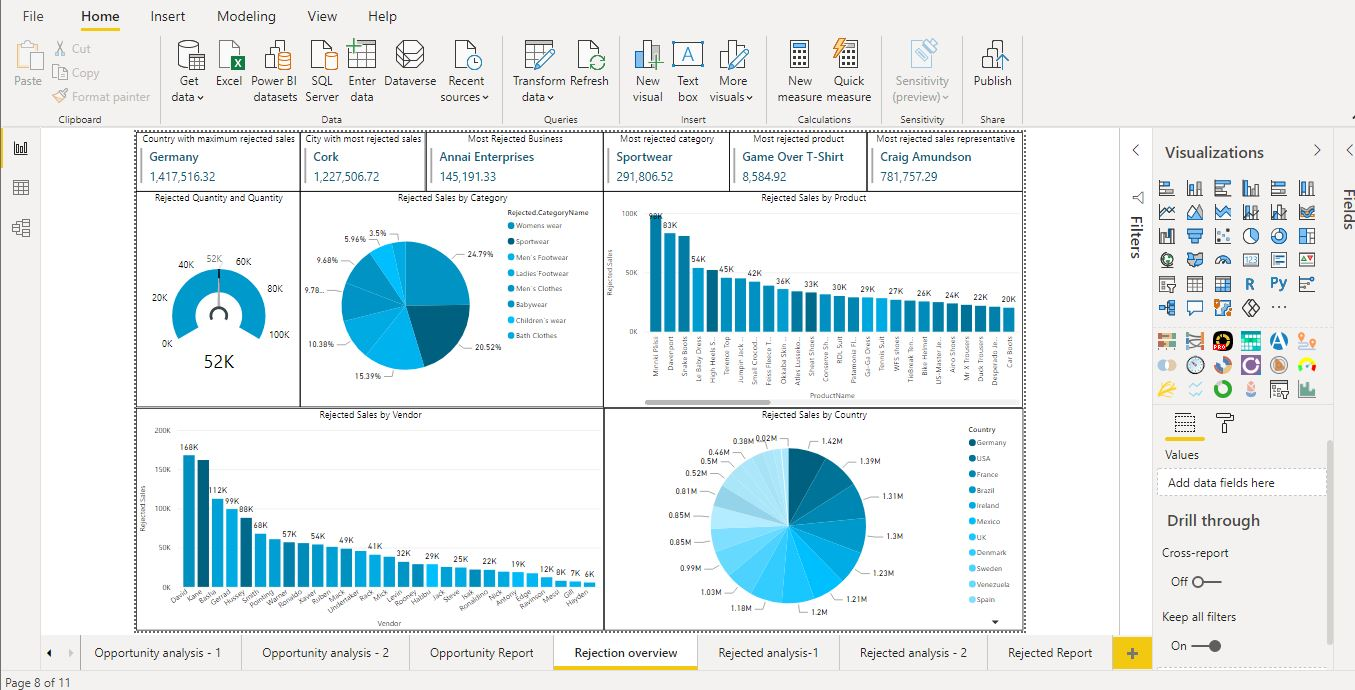

Layout of this report page (visuals, bound fields, positions):
{"tool":"powerbi","page":{"name":"Rejection overview","canvas":[1280,720],"ordinal":7},"visuals":[{"type":"multiRowCard","title":"Most Rejected Business","fields":{"Values":["Min(Sales.Business)","Sum(Rejected.Rejected.Sales)"]},"box":[417.9,0,255.7,86.2],"z":0},{"type":"multiRowCard","title":"Most rejected category","fields":{"Values":["Min(Rejected.Rejected.CategoryName)","Sum(Rejected.Rejected.Sales)"]},"box":[673.6,0,182.6,86.2],"z":1000},{"type":"multiRowCard","title":"Most rejected product","fields":{"Values":["Min(Rejected.ProductName)","Sum(Rejected.Rejected.Sales)"]},"box":[856.3,0,198.7,86.2],"z":2000},{"type":"pieChart","title":"Rejected Sales by Category","fields":{"Category":["Rejected.Rejected.CategoryName"],"Y":["Sum(Rejected.Rejected.Sales)"]},"box":[236.9,85.7,438.4,312.4],"z":3000},{"type":"columnChart","title":"Rejected Sales by Vendor","fields":{"Category":["Sales.Vendor"],"Y":["Sum(Rejected.Rejected.Sales)"]},"box":[0,398.9,675.1,321.5],"z":4000},{"type":"columnChart","title":"Rejected Sales by Product","fields":{"Category":["Rejected.ProductName"],"Y":["Sum(Rejected.Rejected.Sales)"]},"box":[674,85.8,606,313],"z":5000},{"type":"Tachometer1474636471549","title":"Rejected Quantity and Quantity","fields":{"TargetValue":["Sum(Sales.Quantity)"],"Y":["Sum(Rejected.Rejected.Quantity)"]},"box":[0,85.7,236.9,312.4],"z":6000},{"type":"pieChart","title":"Rejected Sales by Country","fields":{"Category":["Sales.Country"],"Y":["Sum(Rejected.Rejected.Sales)"]},"box":[675.1,398.9,604.9,321.5],"z":7000},{"type":"multiRowCard","title":"Country with maximum rejected sales","fields":{"Values":["Min(Sales.Country)","Sum(Rejected.Rejected.Sales)"]},"box":[0,0,236.7,86.2],"z":8000},{"type":"multiRowCard","title":"Most rejected sales representative","fields":{"Values":["Min(Sales.Sales Rep)","Sum(Rejected.Rejected.Sales)"]},"box":[1055,0,225,86.2],"z":9000},{"type":"multiRowCard","title":"City with most rejected sales","fields":{"Values":["Min(Sales.City)","Sum(Rejected.Rejected.Sales)"]},"box":[236.7,0,181.2,86.2],"z":10000}]}

Visuals, with their boxes on the page's 1280x720 design canvas (x1, y1, x2, y2). These are canvas units, not pixel positions in the 1355x690 screenshot, which may show the page scaled, cropped or inside an application window:
"Most Rejected Business" multiRowCard: rect(418, 0, 674, 86)
"Most rejected category" multiRowCard: rect(674, 0, 856, 86)
"Most rejected product" multiRowCard: rect(856, 0, 1055, 86)
"Rejected Sales by Category" pieChart: rect(237, 86, 675, 398)
"Rejected Sales by Vendor" columnChart: rect(0, 399, 675, 720)
"Rejected Sales by Product" columnChart: rect(674, 86, 1280, 399)
"Rejected Quantity and Quantity" Tachometer1474636471549: rect(0, 86, 237, 398)
"Rejected Sales by Country" pieChart: rect(675, 399, 1280, 720)
"Country with maximum rejected sales" multiRowCard: rect(0, 0, 237, 86)
"Most rejected sales representative" multiRowCard: rect(1055, 0, 1280, 86)
"City with most rejected sales" multiRowCard: rect(237, 0, 418, 86)
